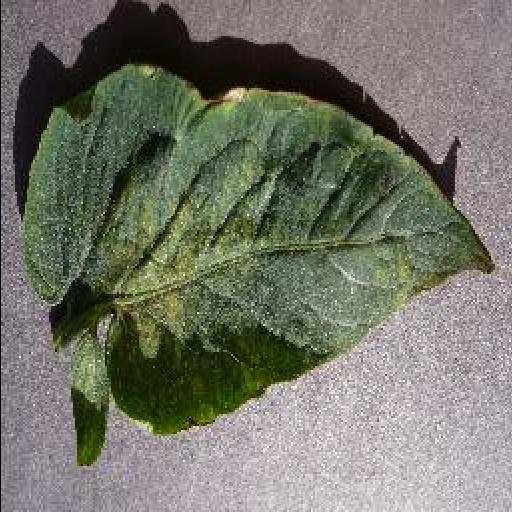disease_tomato: (18, 63, 498, 467)
